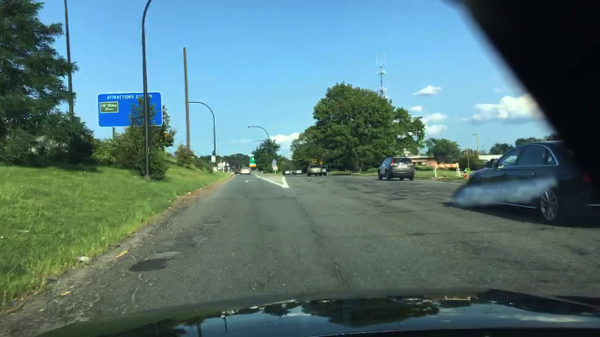car: (464, 140, 599, 223), (376, 155, 417, 180), (308, 164, 320, 176), (284, 169, 293, 176), (241, 167, 250, 174), (320, 167, 326, 176), (294, 168, 301, 174), (235, 168, 240, 175)
traffic sign: (98, 91, 164, 127), (249, 158, 257, 167), (211, 155, 215, 163)
